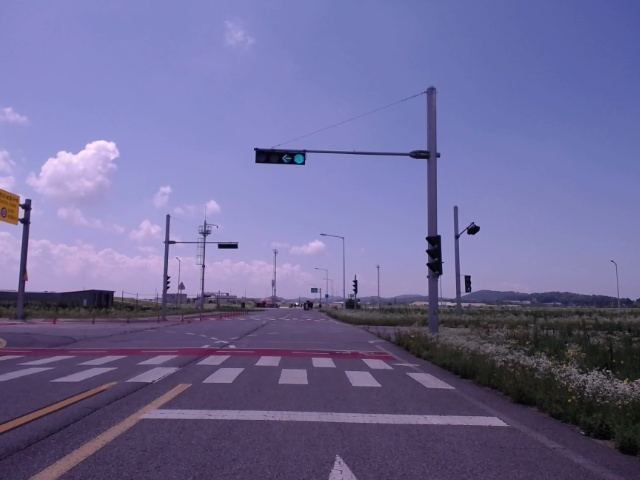all_green_4: (255, 147, 306, 165)
